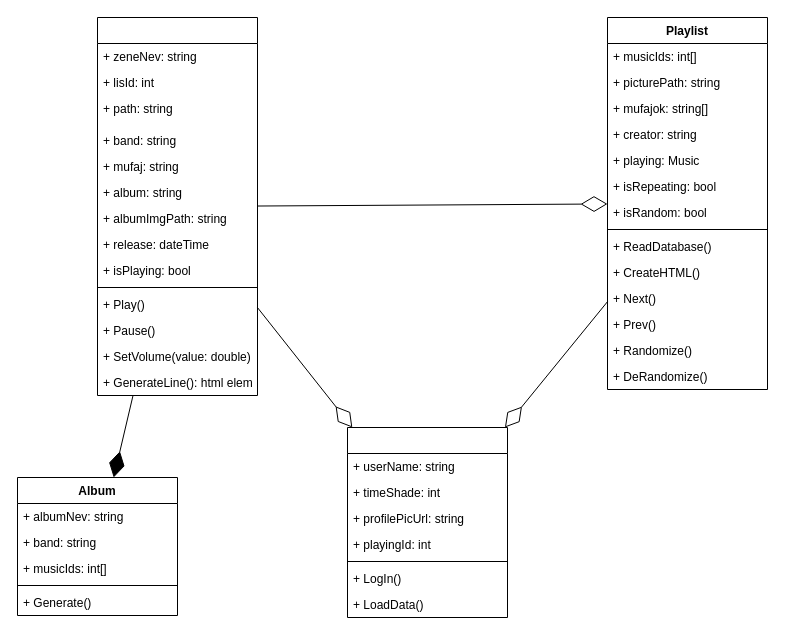
The diagram is 785 pixels wide and 638 high, and some of its shapes have lost their labels. Each missing label, with the box of its shape:
Account: (346, 426, 508, 618)
Music: (96, 16, 258, 396)
